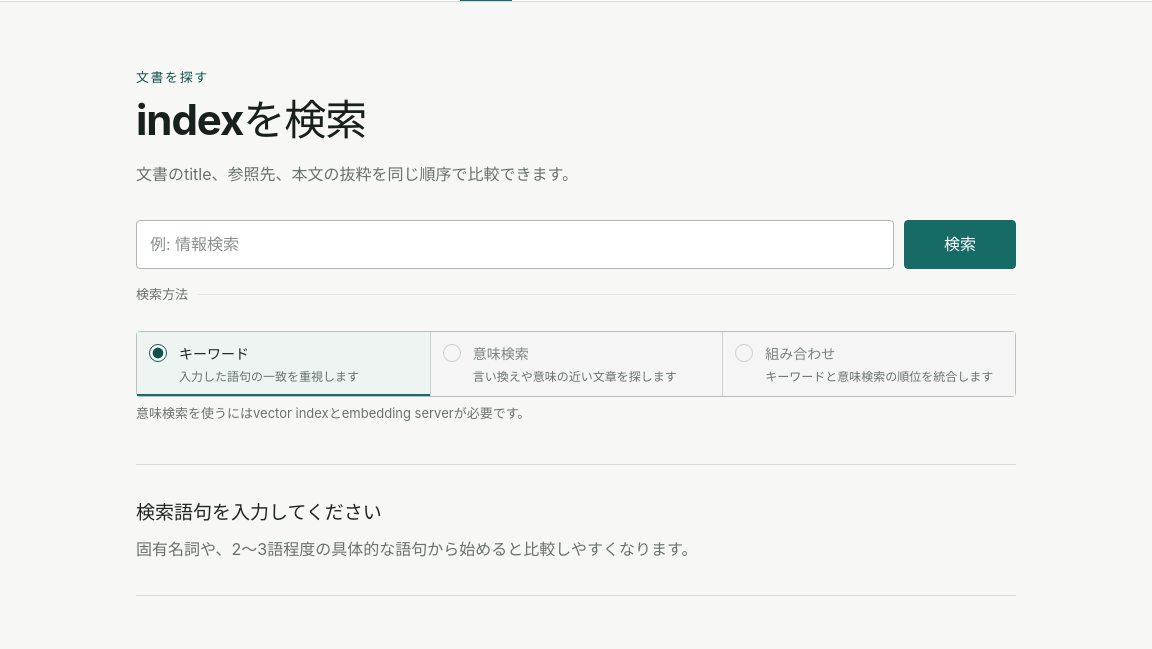
Test case: yappod search UI › searches, compares results, and follows cursor pagination
In the search field named "検索語句": (515, 245) [136,220,894,269], type "情報検索"
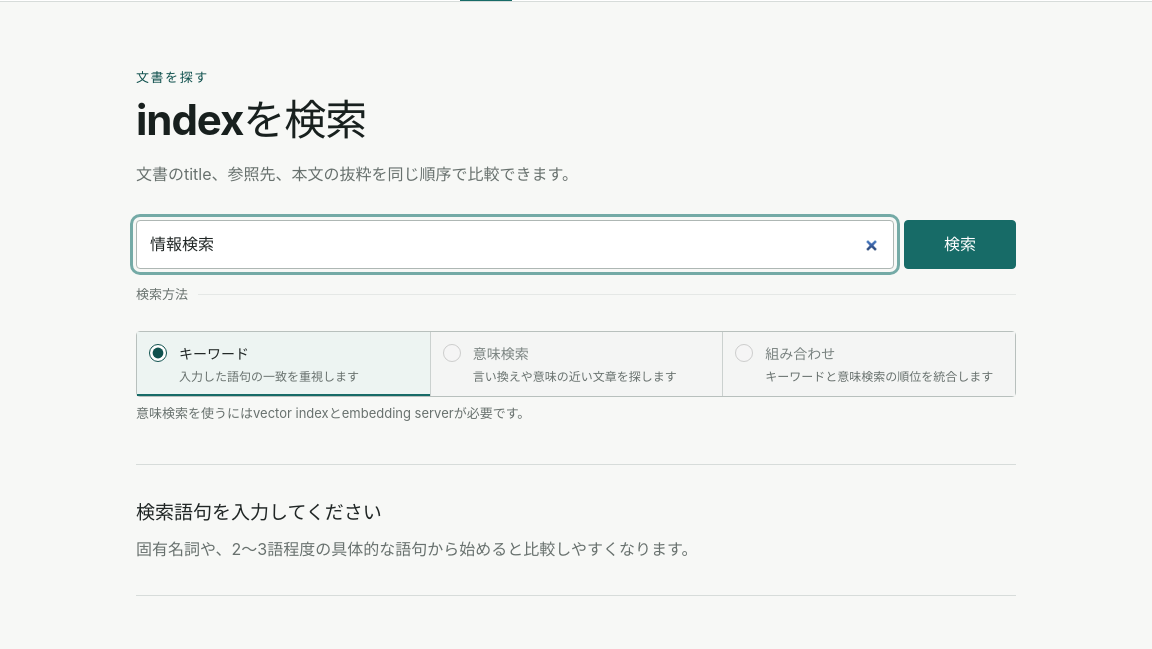
Click the button with aria-label "検索を実行": (960, 245) [904,220,1016,269]
(page scrolled)
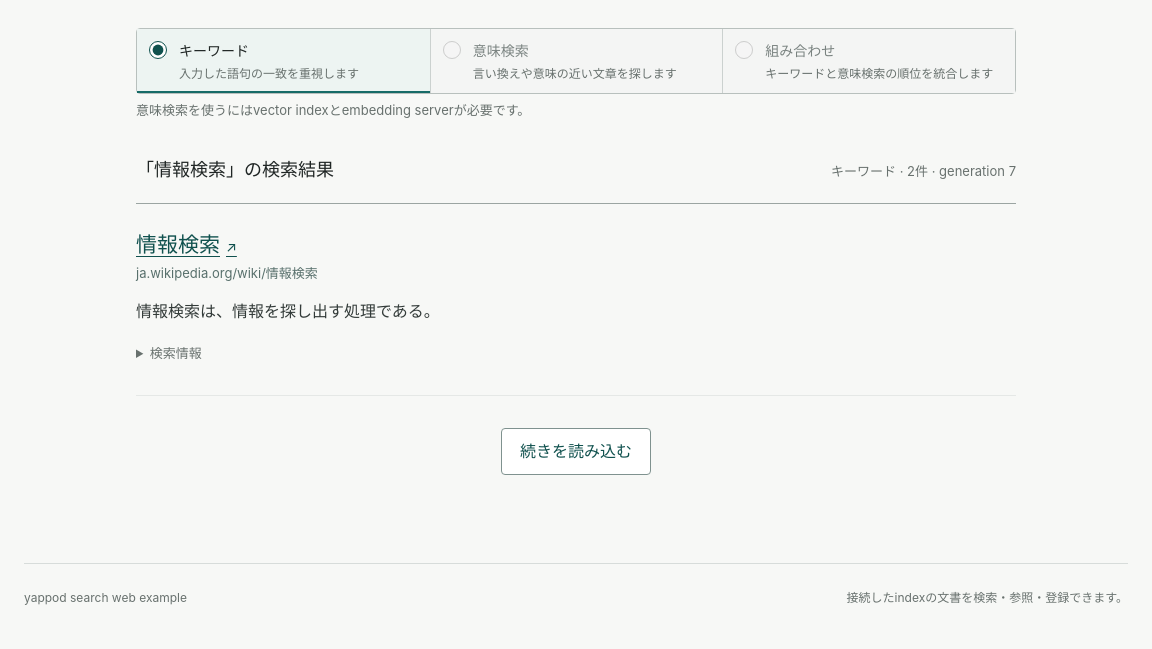
Now the text "情報検索は、情報を探し出す処理である。" is shown, box [136,300,440,320]
Click the button "続きを読み込む": (576, 452) [501,428,651,475]
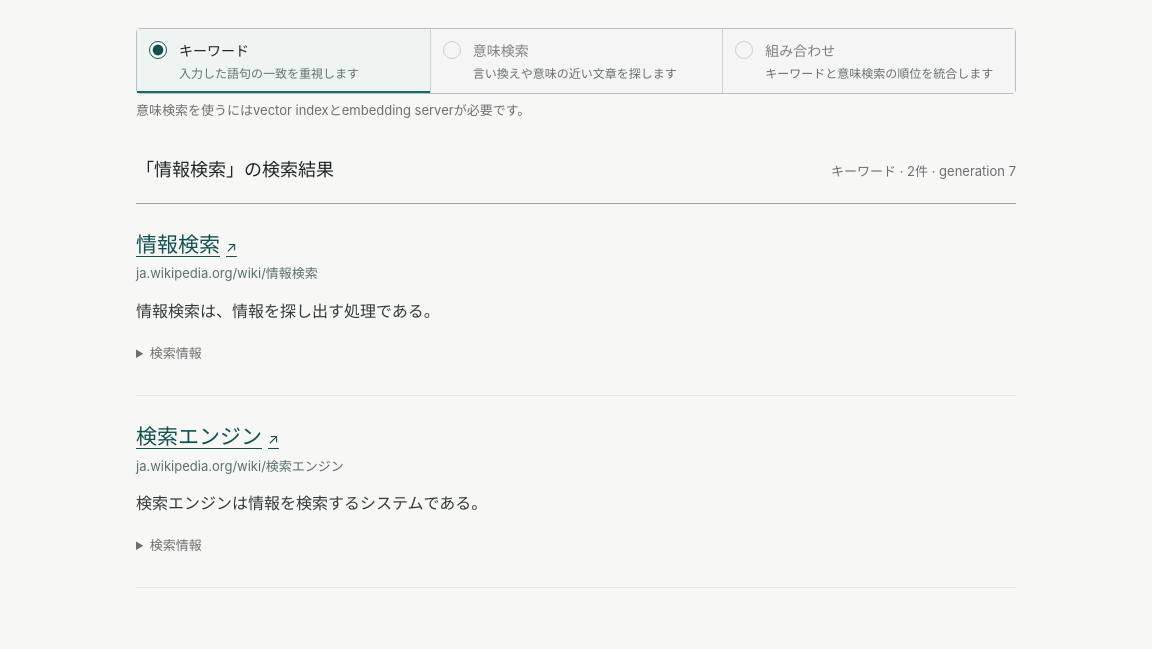
Now the link "検索エンジン↗" is shown, box [136,424,279,449]
